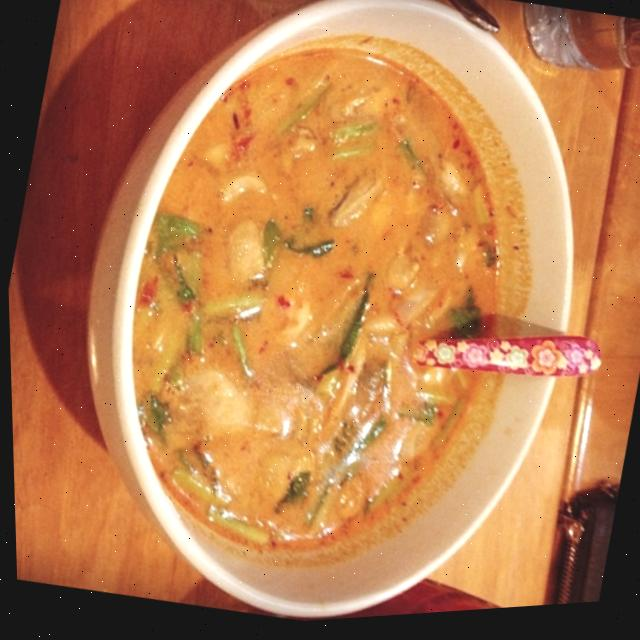汤锅炖物: (124, 69, 538, 533)
